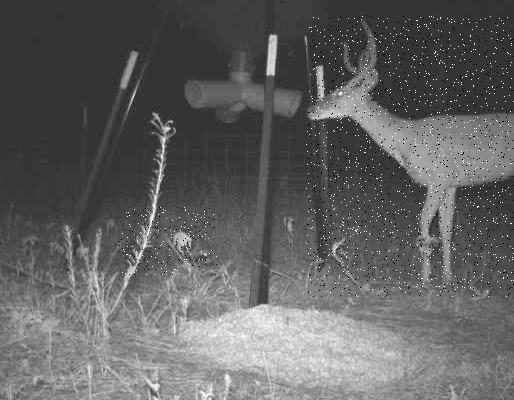Deer: (306, 16, 514, 297)
Raccoon: (118, 208, 216, 276)
